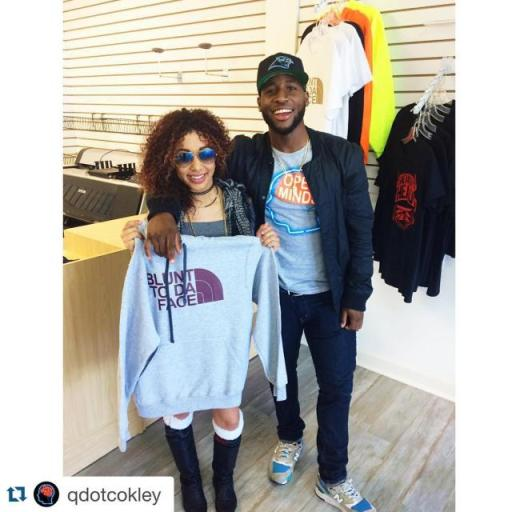The North Face: (193, 267, 226, 312)
